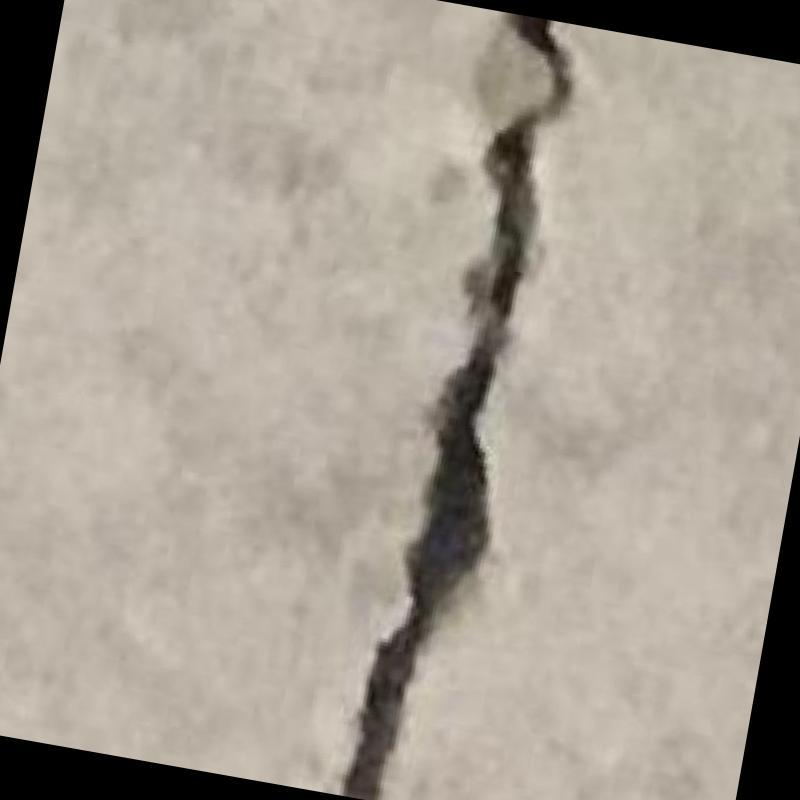pothole: (342, 13, 571, 800)
